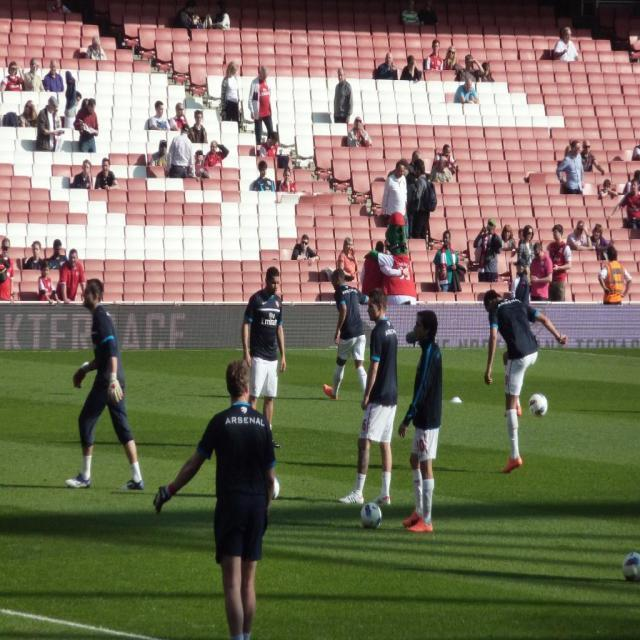football: (356, 497, 387, 533)
